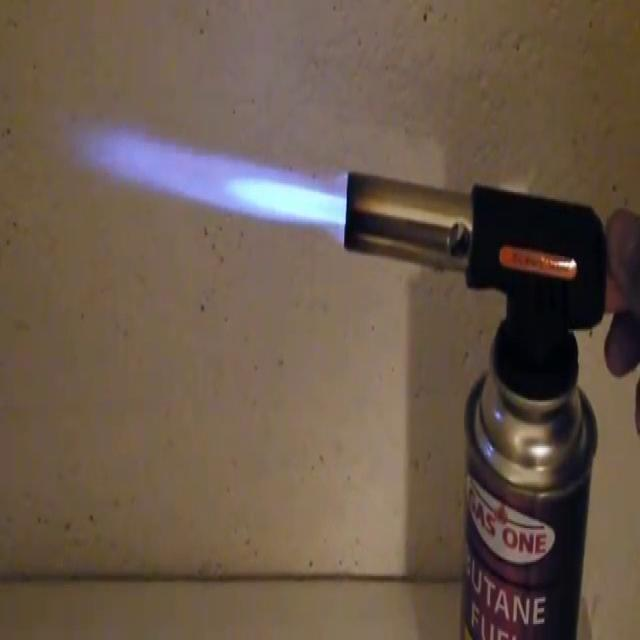fire: (57, 97, 345, 255)
